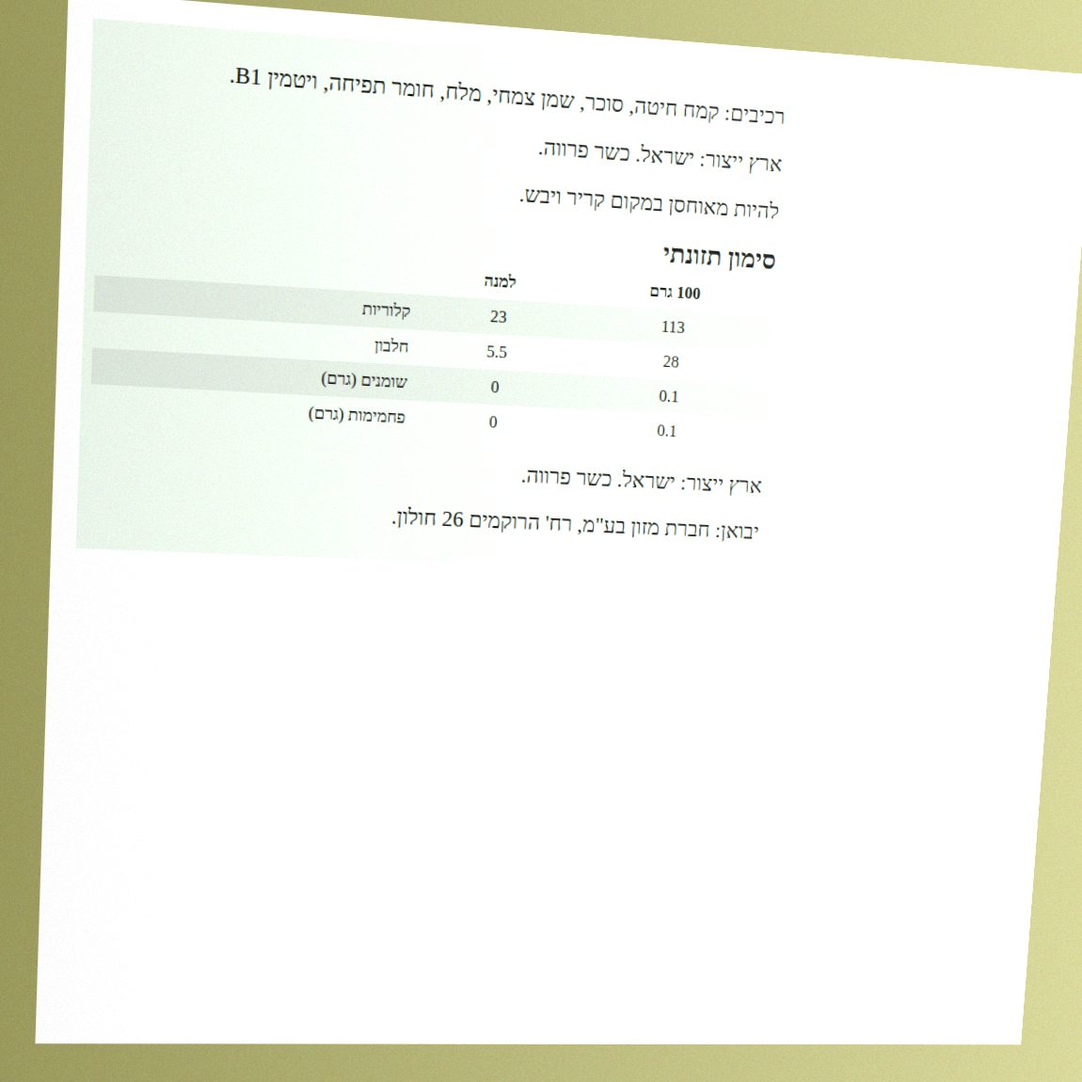carbs: (654, 419, 680, 442)
energy: (659, 315, 688, 339)
fat: (656, 385, 682, 408)
protein: (660, 350, 682, 373)
